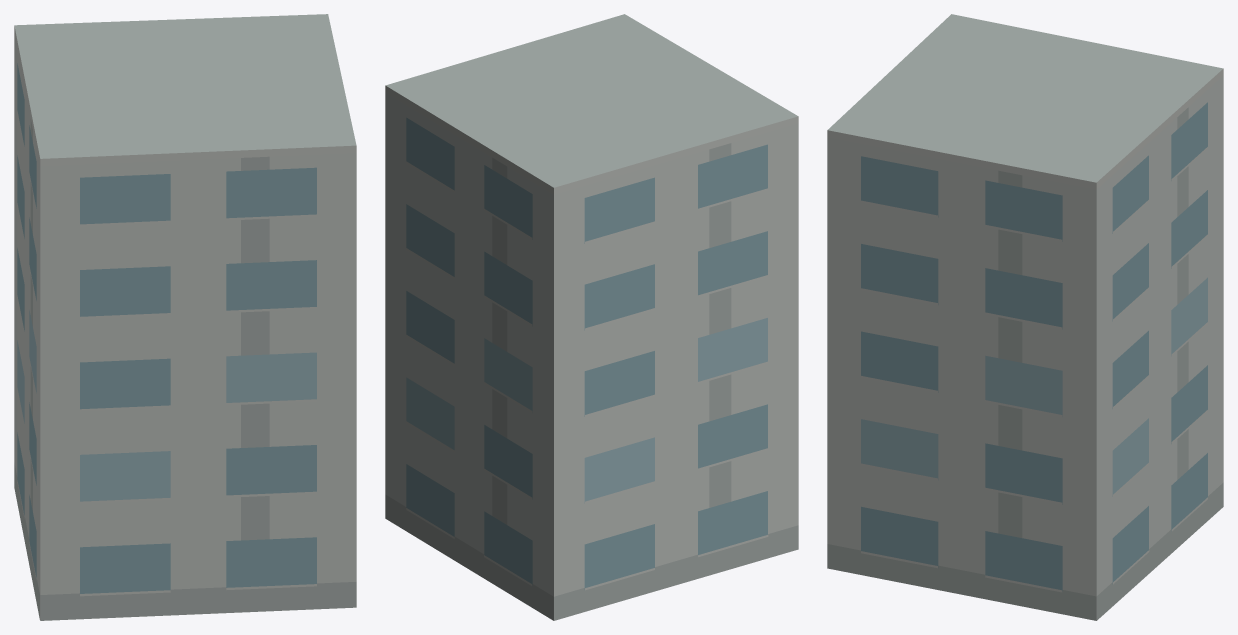
File: survey-upis-32733903.glb
3 renders of one model, left to right at view 1: azimuth 30°, elevation 25°; view 2: azimuth 150°, elevation 25°; view 3: azimuth 270°, elevation 25°, orthographic. The views are drawn at different scales.
Visible parts, largest first — view 1: survey-upis-32733903.tmp; view 2: survey-upis-32733903.tmp; view 3: survey-upis-32733903.tmp.
Part boxes in pixels (bbox=[...]): survey-upis-32733903.tmp: bbox=[14, 14, 356, 620]; survey-upis-32733903.tmp: bbox=[385, 14, 798, 620]; survey-upis-32733903.tmp: bbox=[827, 14, 1223, 620].
Bounding box in the file's own units: 12.39 × 15 × 12.3.
